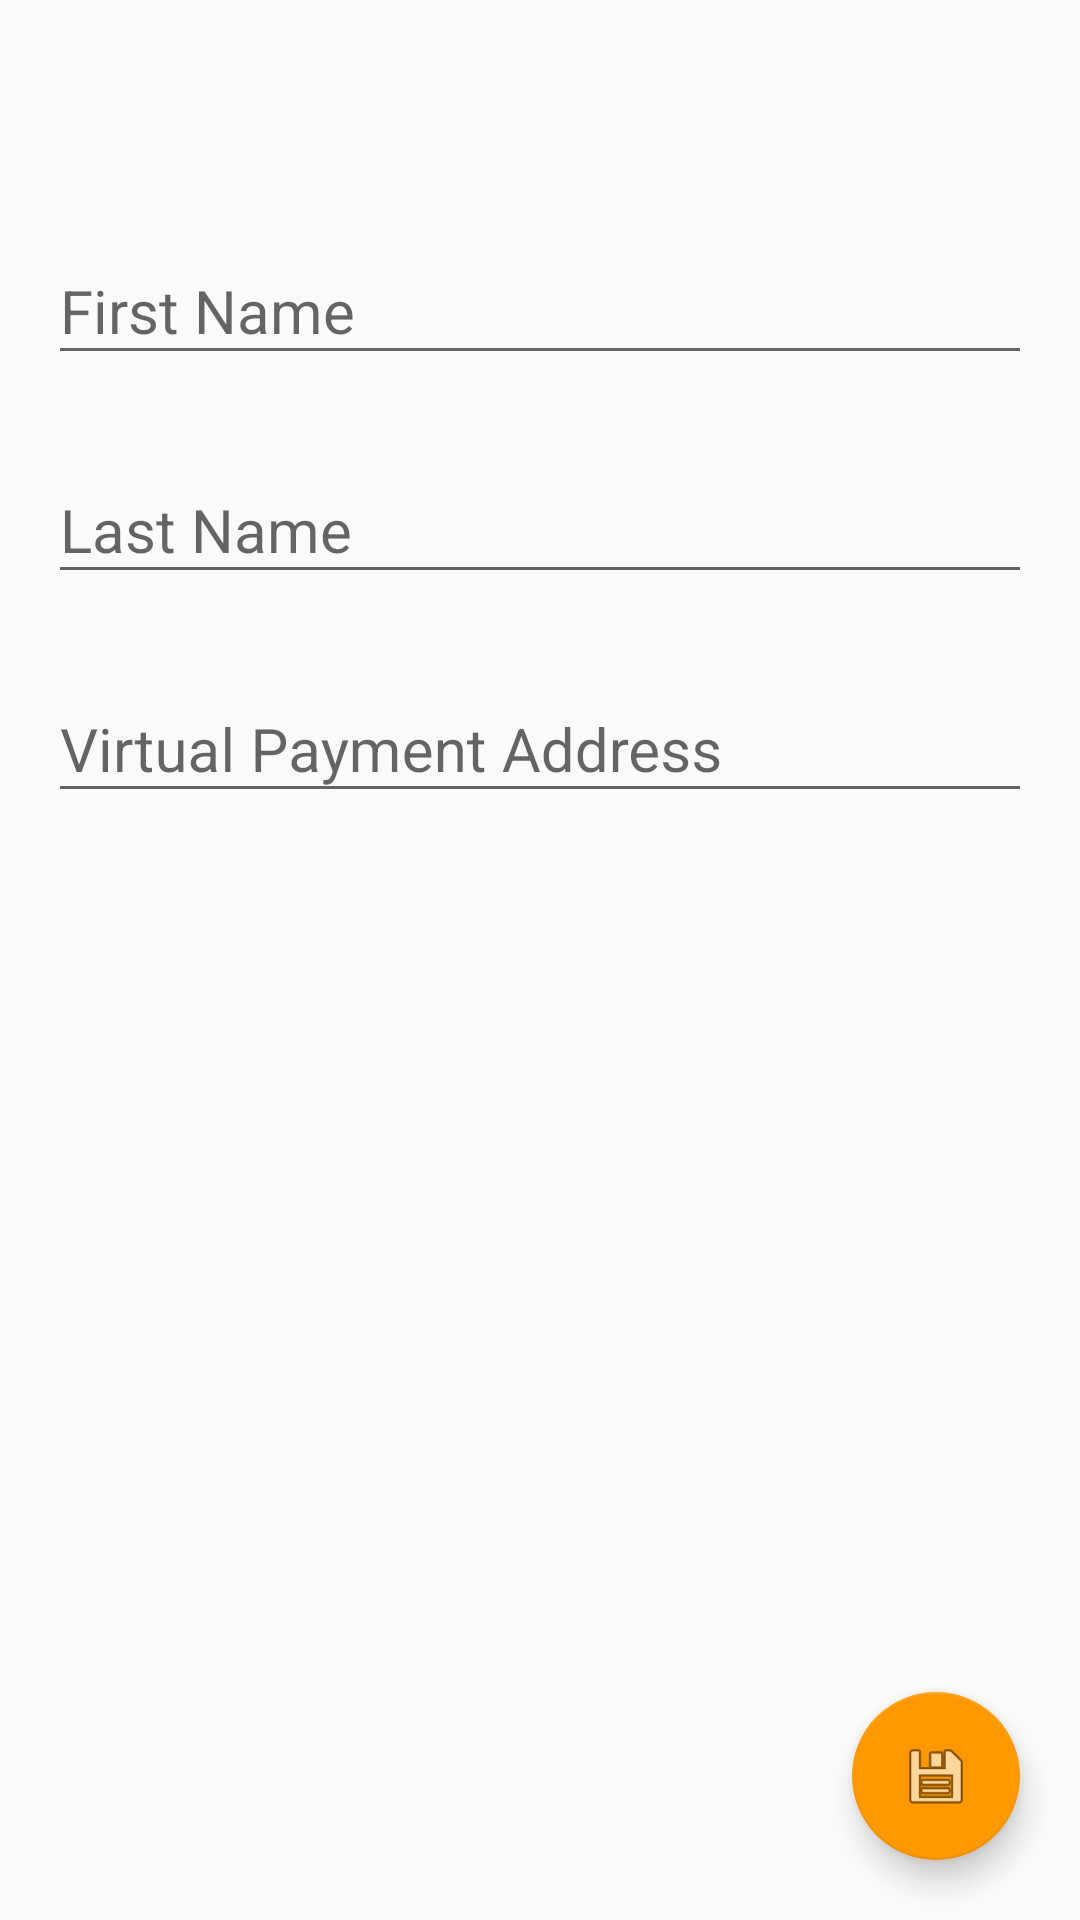

Icon bounding boxes for this 1080x1920 phone screenshot, format (left=x1, top=y1, right=x2, bottom=y2):
save: (left=852, top=1692, right=1020, bottom=1860)
